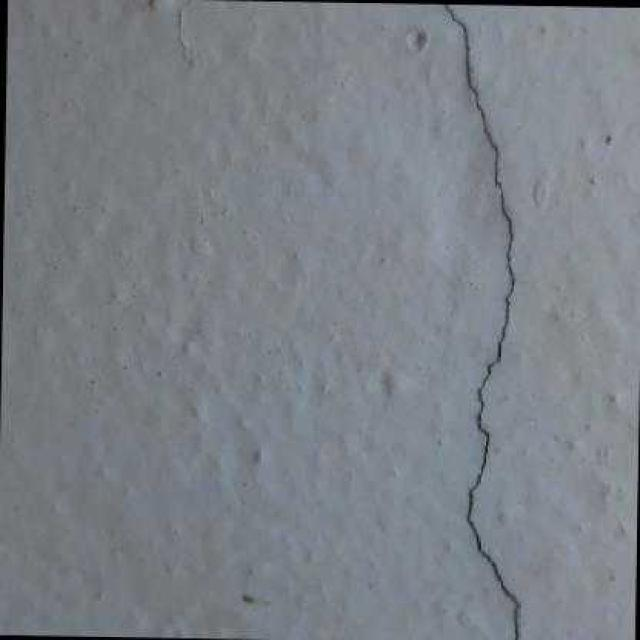D00: (440, 2, 518, 640)
